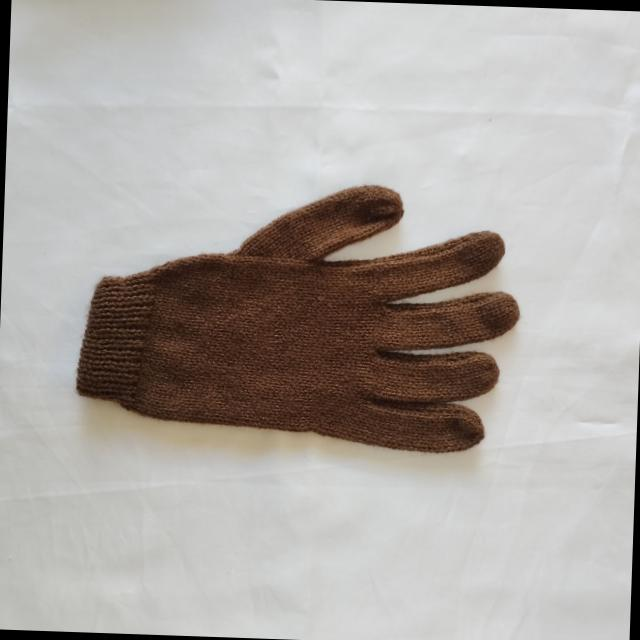Guante: (72, 174, 524, 458)
